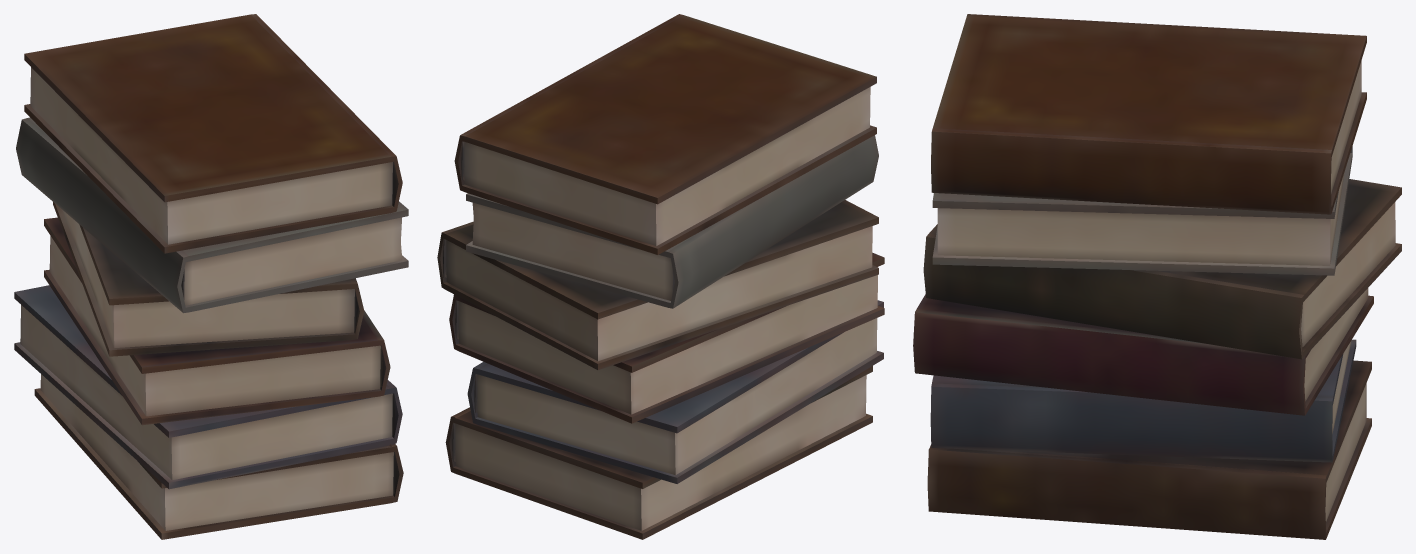
File: book-pile-a.lod1.glb
3 renders of one model, left to right at view 1: azimuth 30°, elevation 25°; view 2: azimuth 150°, elevation 25°; view 3: azimuth 270°, elevation 25°, orthographic. The views are drawn at different scales.
Parts seen in each view (by area): view 1: book-pile-a; view 2: book-pile-a; view 3: book-pile-a.
Boxes of the visible parts, x1,y1,x2,y2 form: book-pile-a: (14, 14, 408, 539); book-pile-a: (437, 14, 884, 539); book-pile-a: (913, 14, 1401, 539).
Bounding box in the file's own units: 0.2397 × 0.2463 × 0.285.
1 material, 1 textured.
